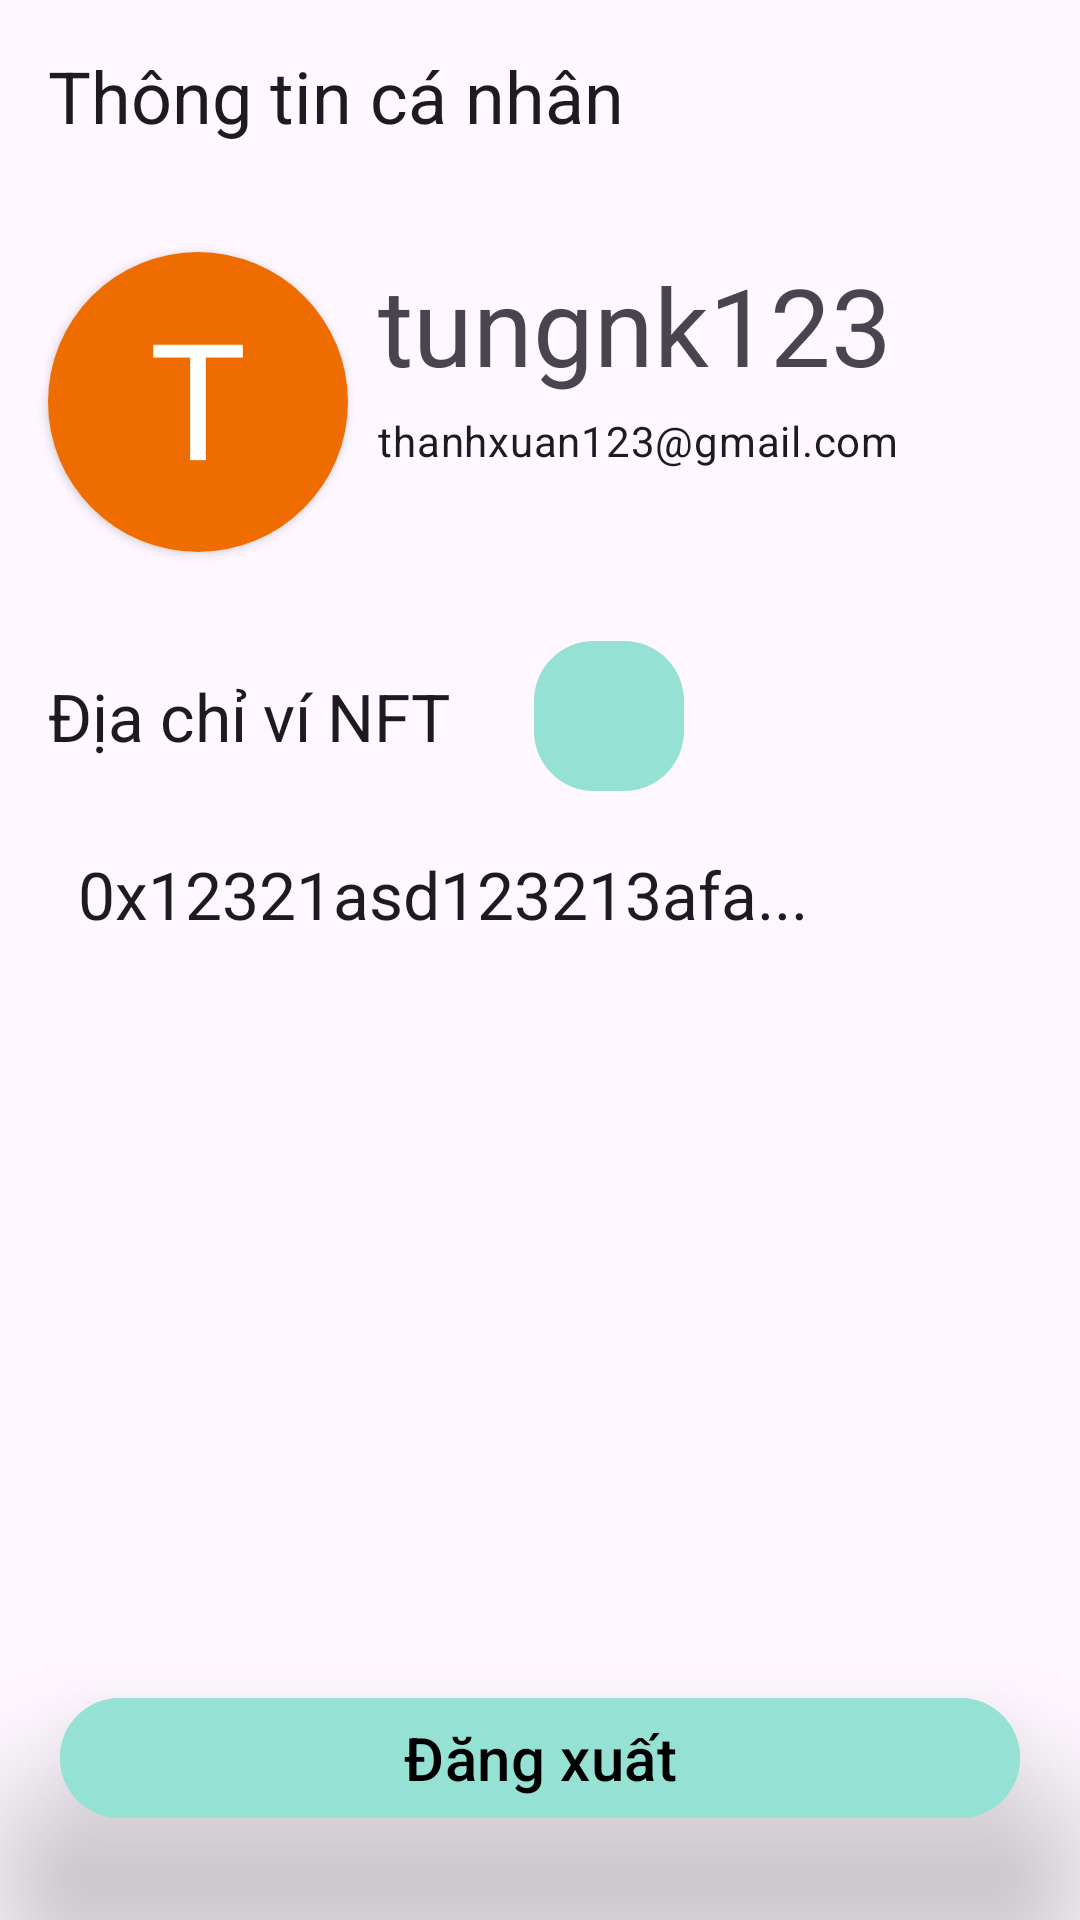

Where icons sit on this 1080 × 1920 app screen, as {"x1": x1, "y1": y1, "x2": x2, "y2": y2}:
ava: {"x1": 48, "y1": 252, "x2": 348, "y2": 552}
